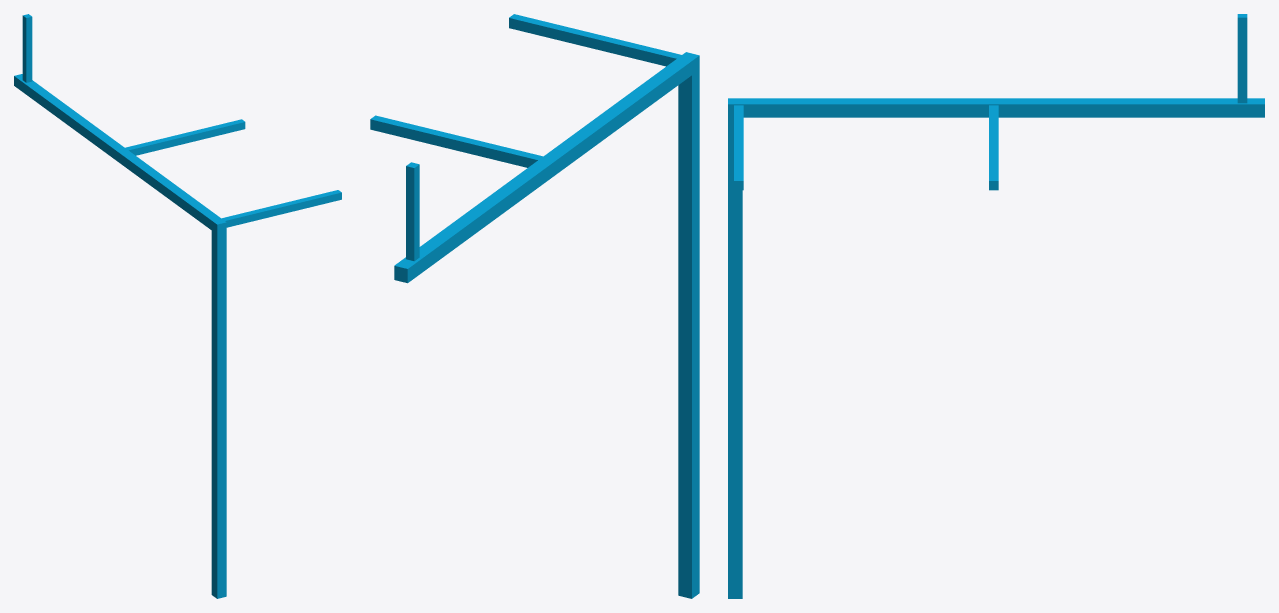
The model's file is Garage_H_Door_Metal.fbx.
3 renders of one model, left to right at view 1: azimuth 30°, elevation 25°; view 2: azimuth 150°, elevation 25°; view 3: azimuth 270°, elevation 25°, orthographic. The views are drawn at different scales.
Parts seen in each view (by area): view 1: Garage_H_Door_Metal; view 2: Garage_H_Door_Metal; view 3: Garage_H_Door_Metal.
Part boxes in pixels (x1=…): Garage_H_Door_Metal: x1=14, y1=14, x2=341, y2=598; Garage_H_Door_Metal: x1=370, y1=14, x2=699, y2=598; Garage_H_Door_Metal: x1=728, y1=14, x2=1264, y2=598.
Bounding box in the file's own units: 106 × 351 × 294.
